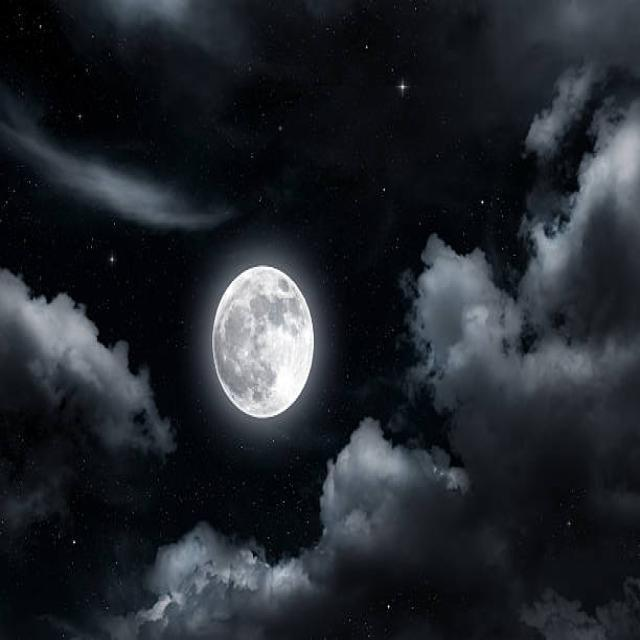moon: (212, 263, 316, 416)
